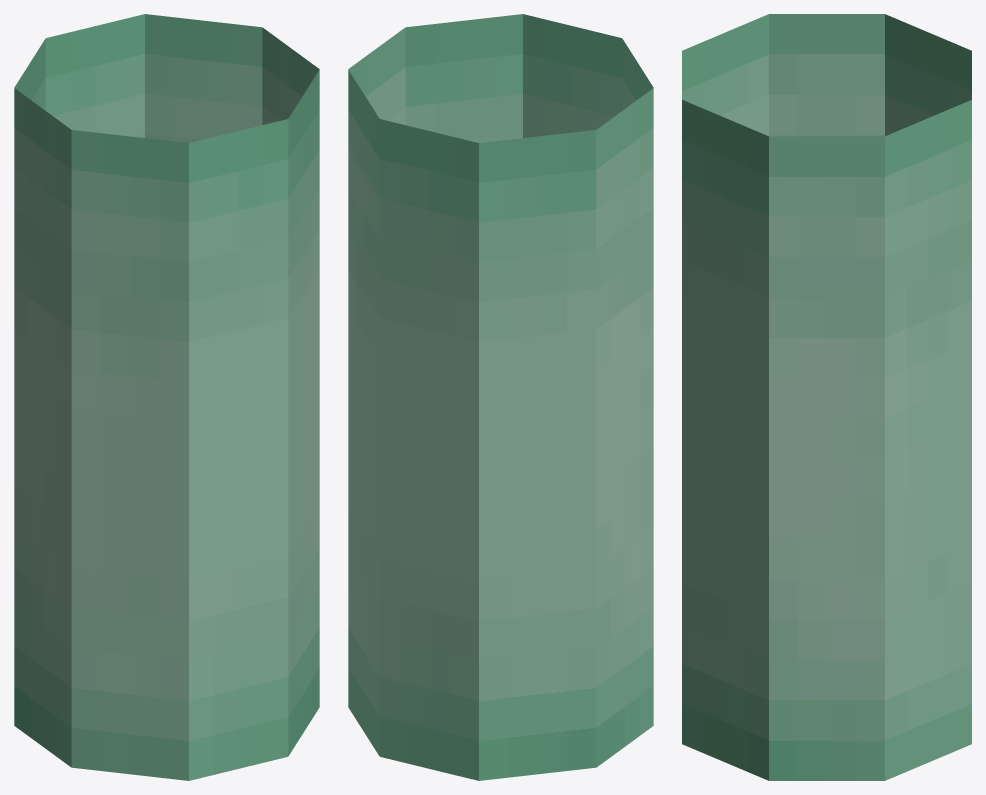
File: smallcylinder.obj
The picture shows the model from 3 angles, left to right: view 1: azimuth 30°, elevation 25°; view 2: azimuth 150°, elevation 25°; view 3: azimuth 270°, elevation 25°; orthographic projection.
Visible parts, largest first — view 1: Cube.000_Cube.001, Cube.002_Cube; view 2: Cube.000_Cube.001, Cube.002_Cube; view 3: Cube.000_Cube.001, Cube.002_Cube.
Part boxes in pixels (left/top/right/bottom): Cube.000_Cube.001: left=14, top=14, right=319, bottom=780; Cube.002_Cube: left=14, top=14, right=319, bottom=719; Cube.000_Cube.001: left=348, top=14, right=653, bottom=780; Cube.002_Cube: left=348, top=14, right=653, bottom=777; Cube.000_Cube.001: left=682, top=14, right=971, bottom=780; Cube.002_Cube: left=682, top=14, right=971, bottom=780.
Size of the model in its own units: 0.4074 by 1 by 0.4074.
